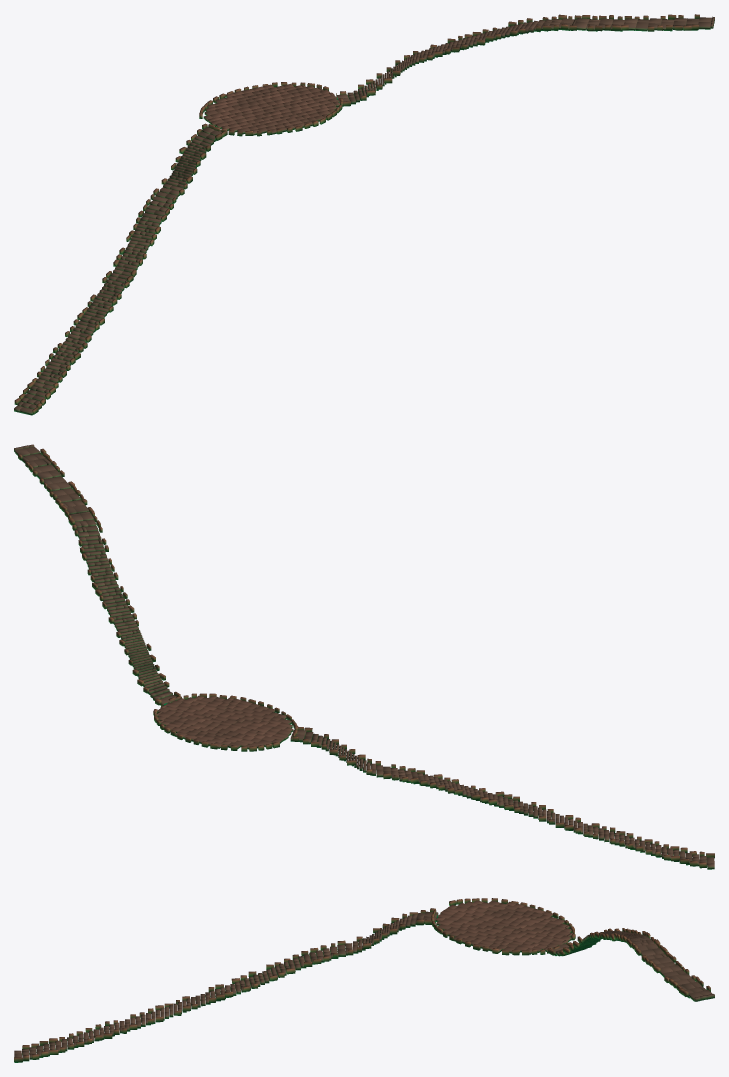
The model's file is arena_headland_path.glb.
3 views of the same model, one above another, from view 1: azimuth 30°, elevation 25°; view 2: azimuth 150°, elevation 25°; view 3: azimuth 330°, elevation 25° (orthographic). The views are drawn at different scales.
Visible parts, largest first — view 1: arena_headland_path; view 2: arena_headland_path; view 3: arena_headland_path.
Boxes of the visible parts, left/top/right/bottom form: arena_headland_path: left=14, top=14, right=714, bottom=415; arena_headland_path: left=14, top=444, right=714, bottom=869; arena_headland_path: left=14, top=898, right=714, bottom=1062.
Size of what is drawn, in the model's own units: 84.57 by 27.36 by 32.86.
